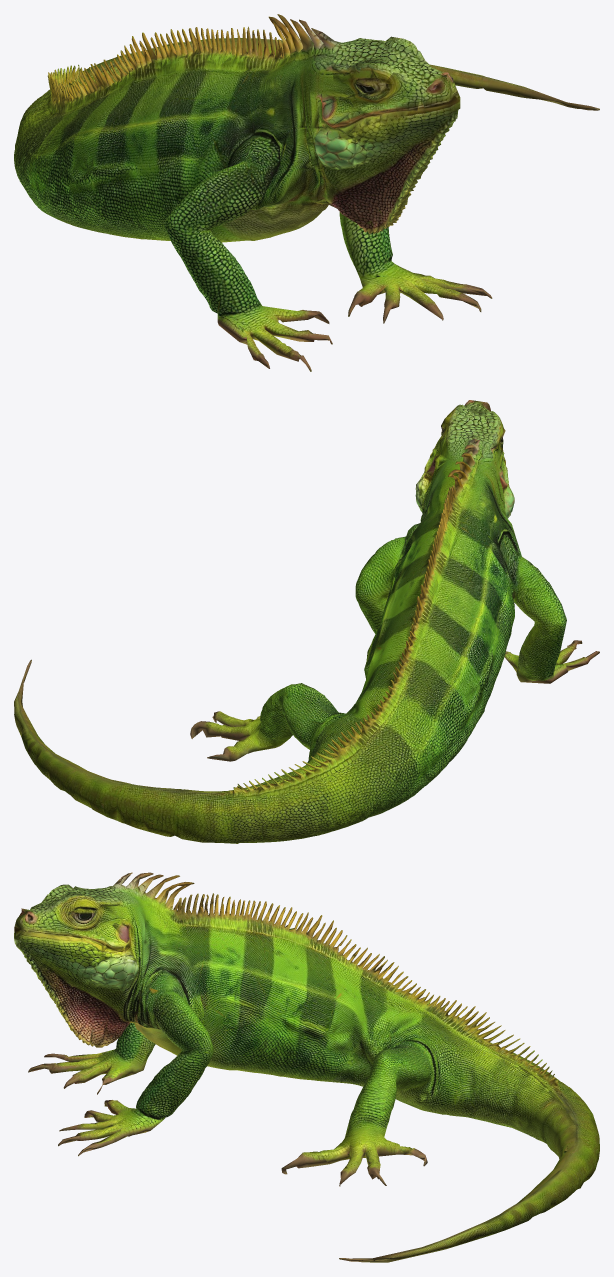
The model's file is reptile.glb.
The picture shows the model from 3 angles, top to bottom: view 1: azimuth 30°, elevation 25°; view 2: azimuth 150°, elevation 25°; view 3: azimuth 270°, elevation 25°; orthographic projection. The views are drawn at different scales.
Visible parts, largest first — view 1: MeshyFit; view 2: MeshyFit; view 3: MeshyFit.
Boxes of the visible parts, <box> form: MeshyFit: <box>14,14,599,371</box>; MeshyFit: <box>14,400,599,843</box>; MeshyFit: <box>14,872,599,1262</box>.
Size of the model in its own units: 0.3301 by 0.18 by 0.3823.
1 material, 1 textured.
